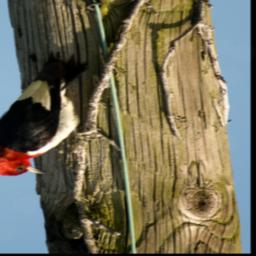Woodpecker: (0, 51, 104, 177)
